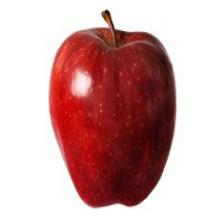red: (50, 29, 176, 207)
